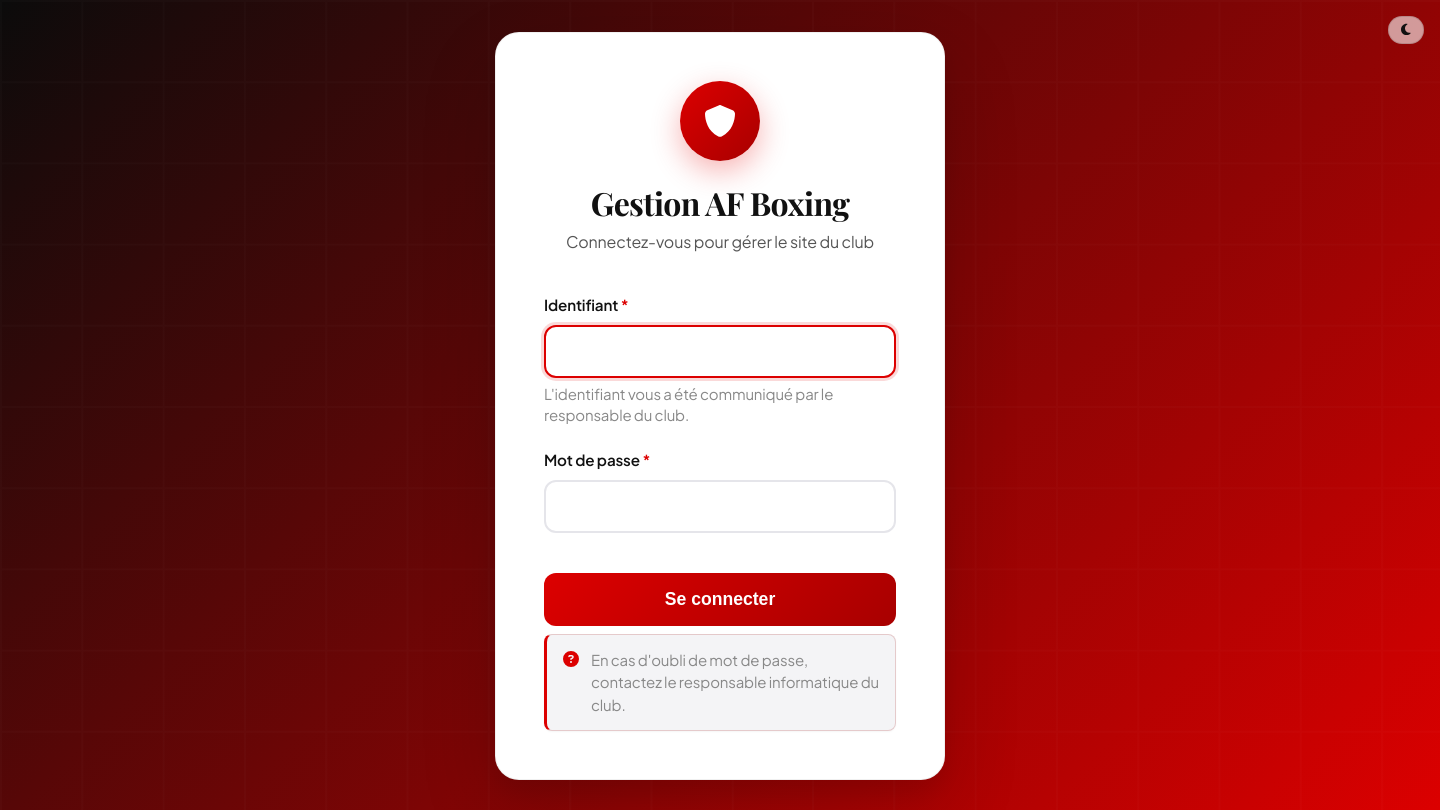
it: AdminLogin › affiche une erreur si le login échoue
The image size is (1440, 810).
Type "x" into the field labelled "Identifiant" at (720, 351), box [544, 325, 896, 378]
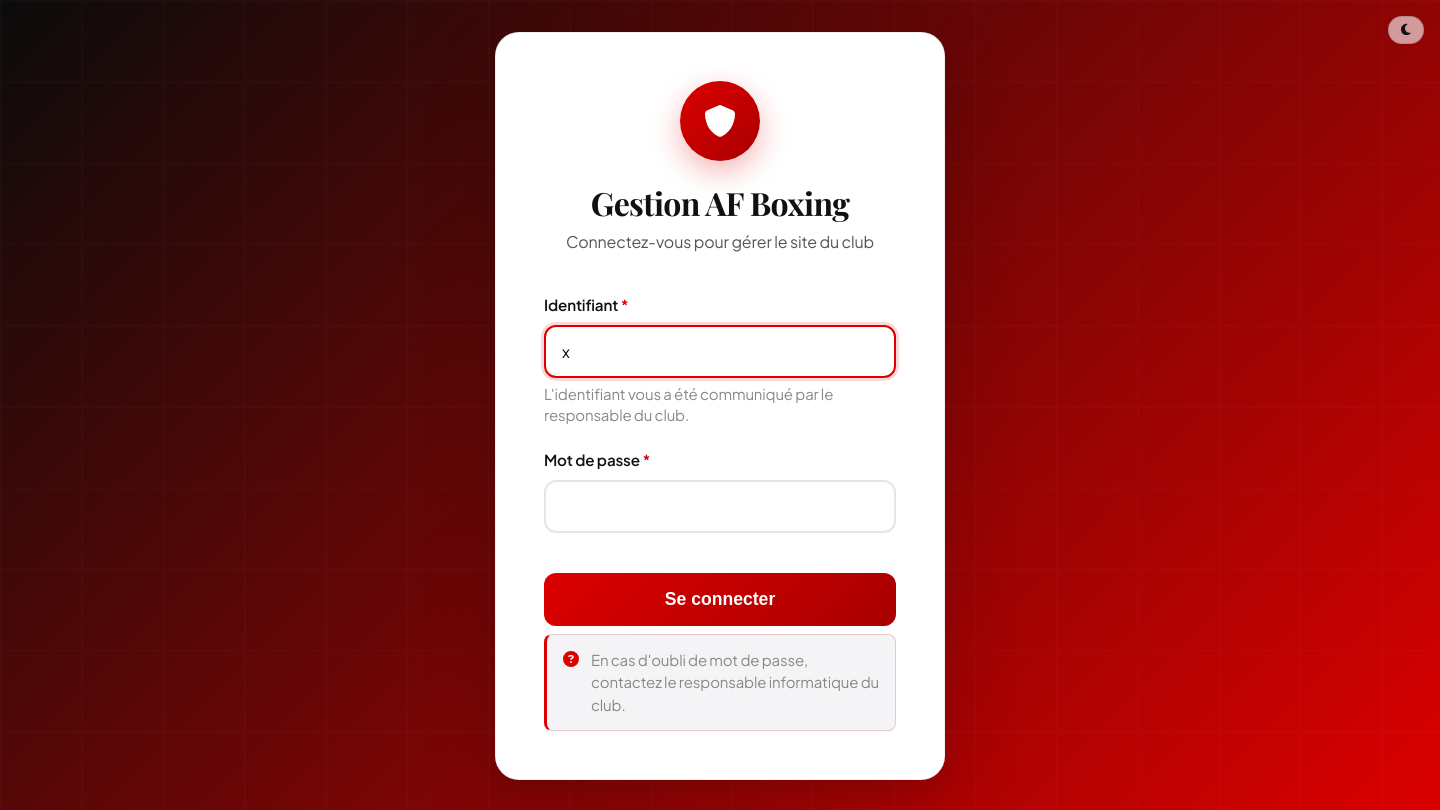
Type "y" into the password field labelled "Mot de passe" at (720, 506), box [544, 480, 896, 533]
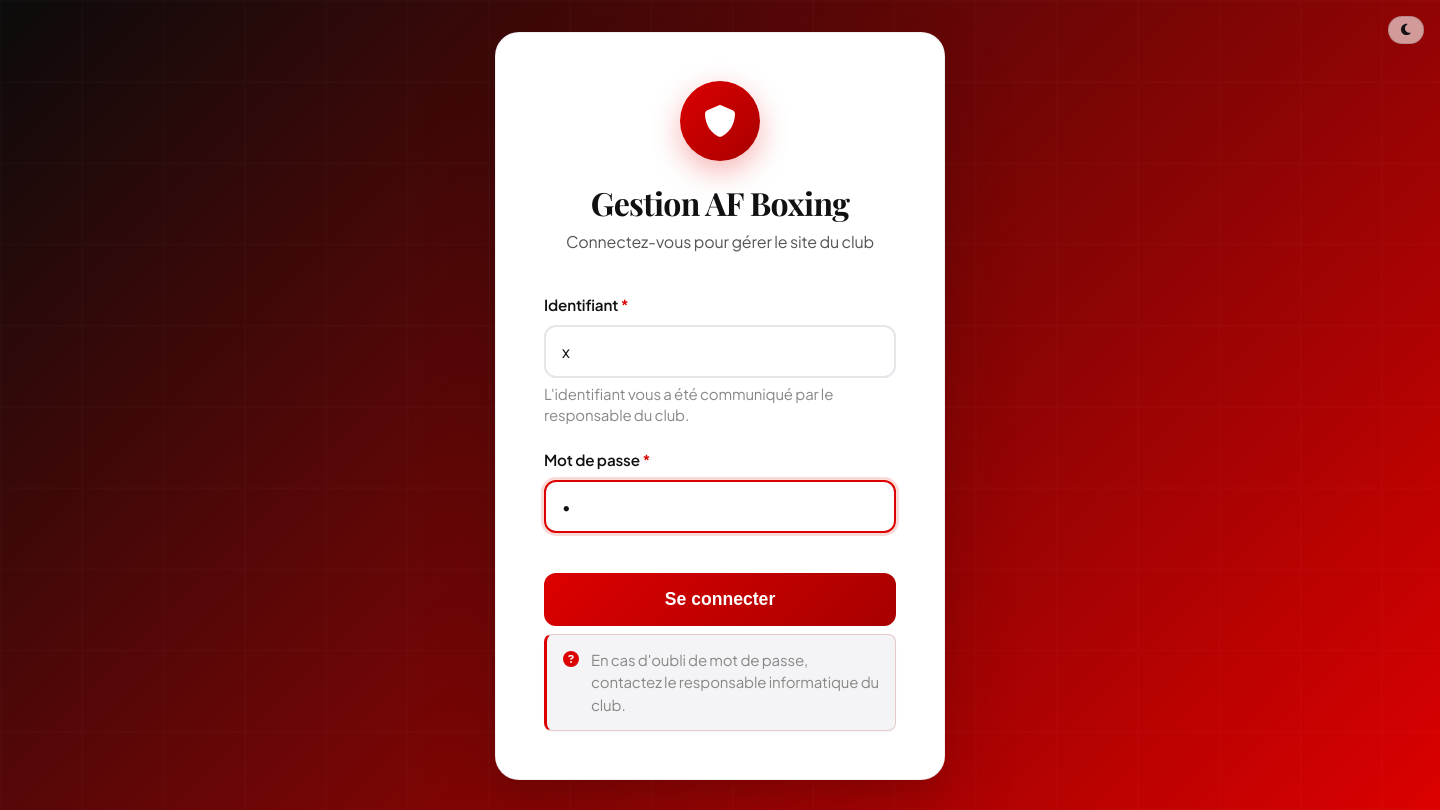
Click the button "Se connecter" at (720, 600), box [544, 573, 896, 626]
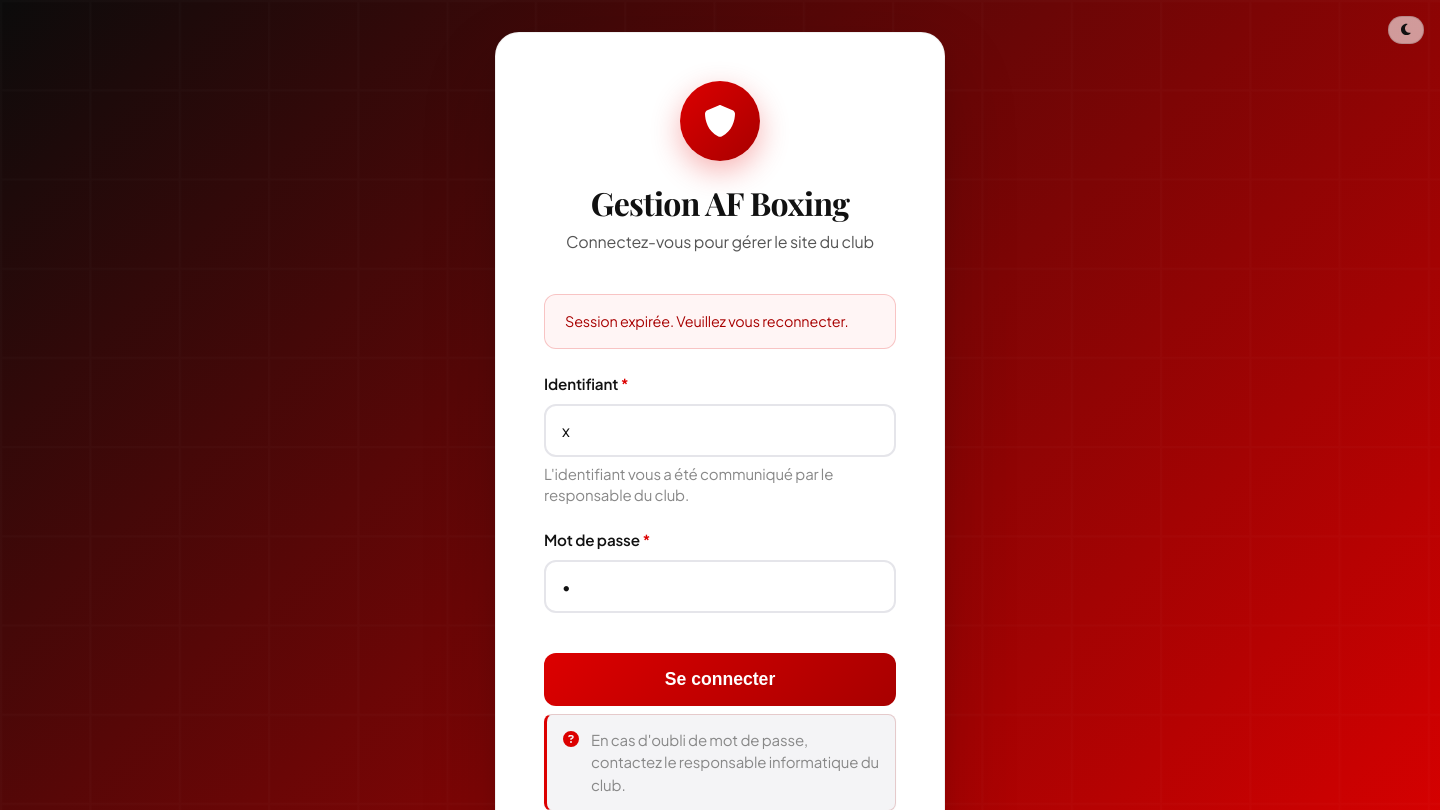
Expected: the text "Session expirée. Veuillez vous reconnecter." is shown, [544, 294, 896, 349]
